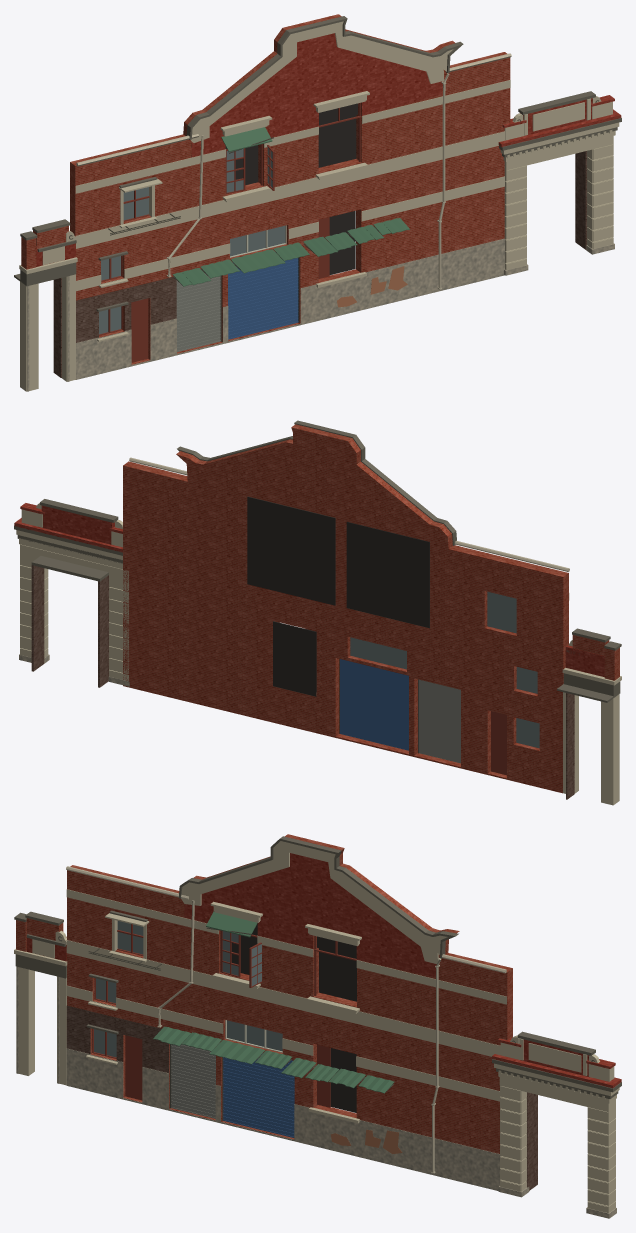
File: 314-street-far.glb
3 views of the same model, one above another, from view 1: azimuth 30°, elevation 25°; view 2: azimuth 150°, elevation 25°; view 3: azimuth 330°, elevation 25° (orthographic).
Visible parts, largest first — view 1: 颐庆里住宅，景星路街面; view 2: 颐庆里住宅，景星路街面; view 3: 颐庆里住宅，景星路街面.
Part boxes in pixels (x1,y1,x2,y2): 颐庆里住宅，景星路街面: (14, 14, 621, 391); 颐庆里住宅，景星路街面: (14, 420, 621, 805); 颐庆里住宅，景星路街面: (14, 834, 621, 1218).
Bounding box in the file's own units: 26.05 × 12.46 × 2.28.
Materials: 16 (4 with a texture image).
